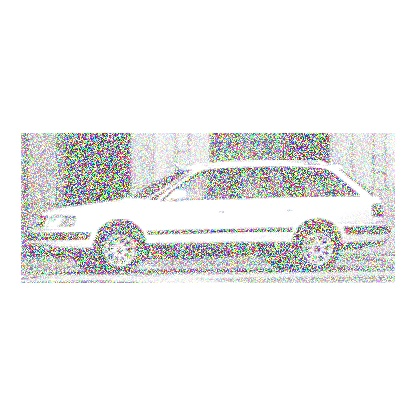Vehicle: (30, 160, 392, 275)
